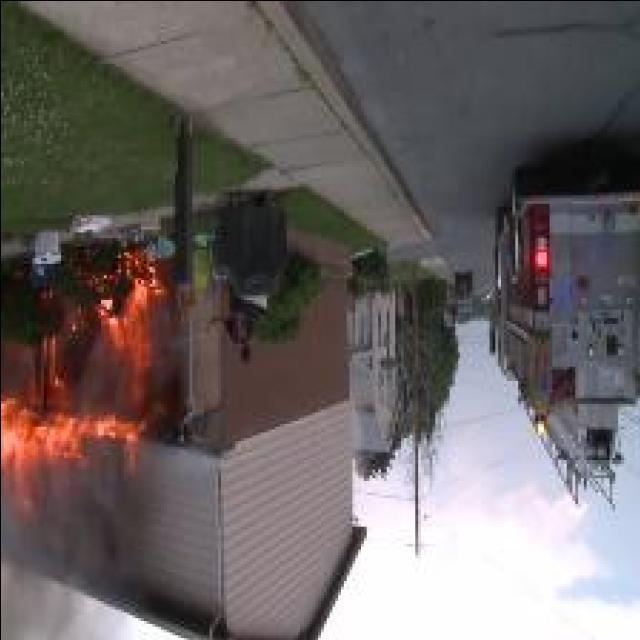Fire: (0, 392, 149, 514), (94, 246, 169, 403)
